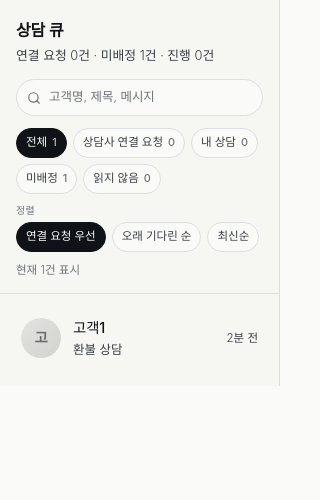
Scenario: QueuePanel › 검색 결과가 없으면 검색 빈 상태를 표시한다
Type "없는 검색어" into the field named "상담 큐 검색" at {"x": 150, "y": 98}, box [49,88,252,107]
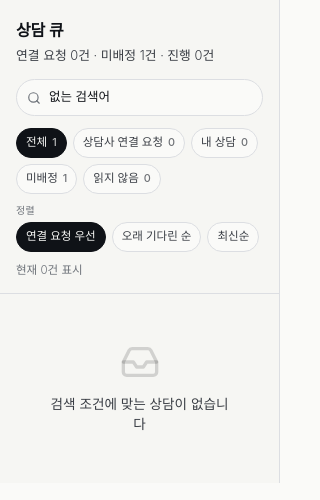
Now the text "검색 조건에 맞는 상담이 없습니다" is shown, box [48,394,231,435]
